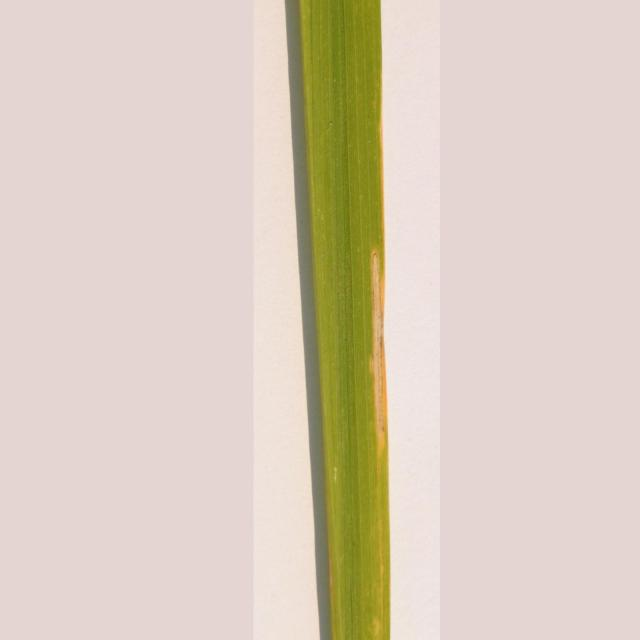Bacterial leaf blight: (363, 247, 392, 468), (370, 499, 390, 640)
